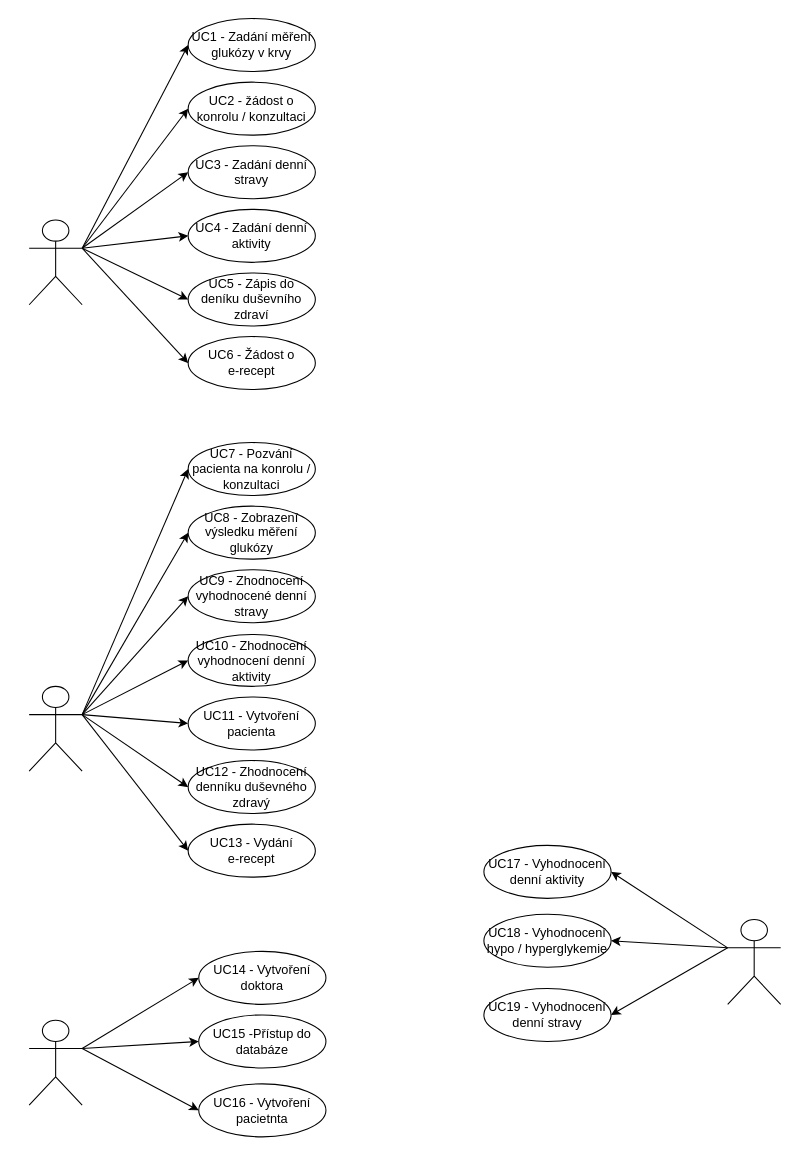
Image size: 799x1155. Some labels were removed from this diagram. Here are the shapes that lost their labels. From the top down, the centre of each, then its label:
point 55,262: Uživatel
point 55,728: Doktor
point 754,961: Systém
point 55,1062: Administrátor
